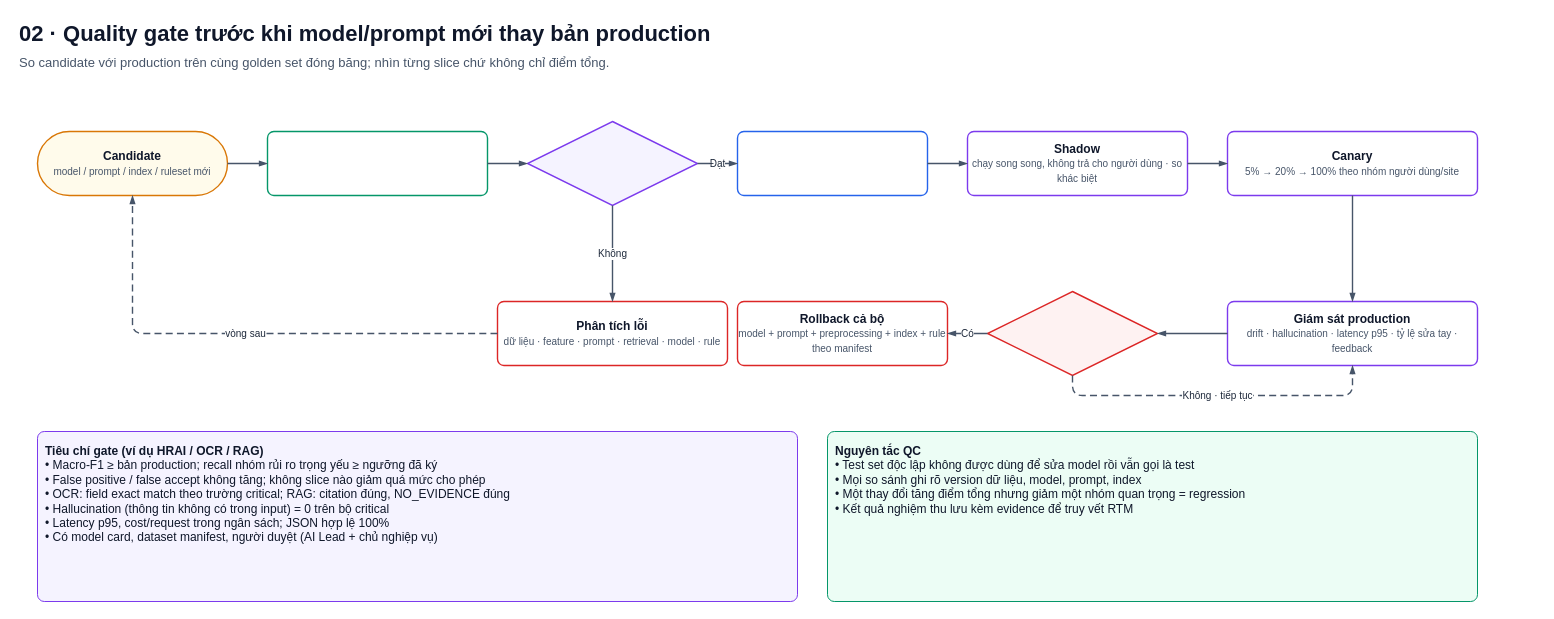
The diagram is 1554 pixels wide and 619 high, and some of its shapes have lost their labels. The shapes that lost their labels are listed below. From the top down, each one's centre as x and y in pixels, then its label:
[377,163]: Chạy đánh giá offline golden set khóa + bộ lỗi cũ + slice khó + adversarial
[612,163]: Đạt gate?
[832,163]: UAT nghiệp vụ SME chấm rubric · ký nghiệm thu
[1072,333]: Vượt ngưỡng?
